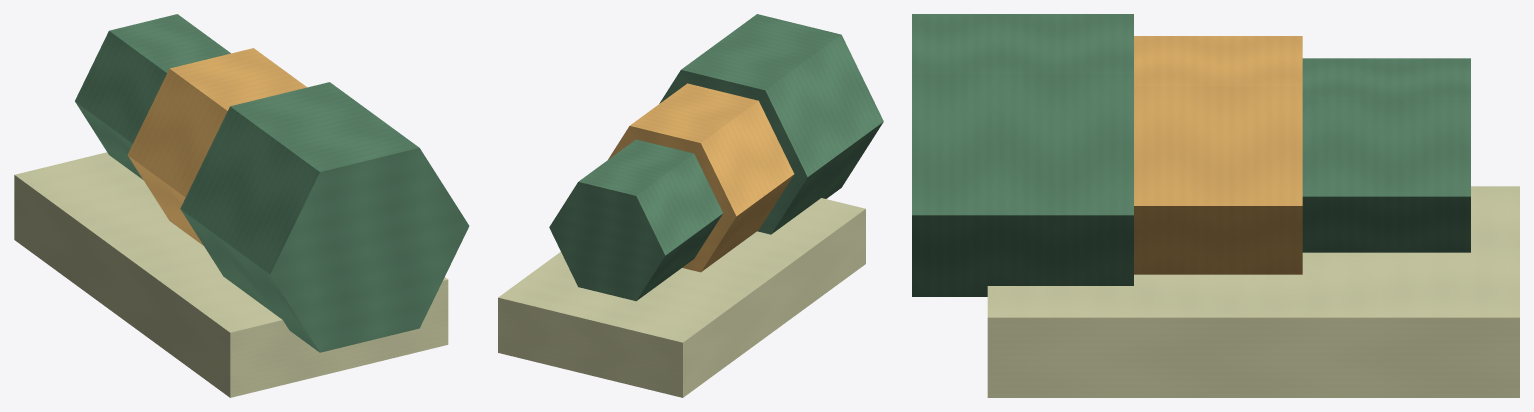
The model's file is atlas100-s003-a05.lod1.glb.
The picture shows the model from 3 angles, left to right: view 1: azimuth 30°, elevation 25°; view 2: azimuth 150°, elevation 25°; view 3: azimuth 270°, elevation 25°; orthographic projection. The views are drawn at different scales.
Parts seen in each view (by area): view 1: atlas100-s003-a05:part-002, atlas100-s003-a05:part-004, atlas100-s003-a05:part-001, atlas100-s003-a05:part-000; view 2: atlas100-s003-a05:part-004, atlas100-s003-a05:part-002, atlas100-s003-a05:part-000, atlas100-s003-a05:part-001; view 3: atlas100-s003-a05:part-004, atlas100-s003-a05:part-002, atlas100-s003-a05:part-001, atlas100-s003-a05:part-000.
Boxes of the visible parts, x1,y1,x2,y2 form: atlas100-s003-a05:part-002: (180, 82, 469, 352); atlas100-s003-a05:part-004: (14, 152, 448, 397); atlas100-s003-a05:part-001: (127, 48, 306, 245); atlas100-s003-a05:part-000: (75, 14, 230, 179); atlas100-s003-a05:part-004: (498, 198, 865, 397); atlas100-s003-a05:part-002: (659, 14, 883, 234); atlas100-s003-a05:part-000: (549, 139, 723, 301); atlas100-s003-a05:part-001: (608, 83, 794, 272); atlas100-s003-a05:part-004: (987, 186, 1519, 397); atlas100-s003-a05:part-002: (912, 14, 1133, 296); atlas100-s003-a05:part-001: (1134, 36, 1302, 274); atlas100-s003-a05:part-000: (1302, 58, 1470, 252).
Bounding box in the file's own units: 0.3822 × 0.3916 × 0.748.
3 materials, 3 textured.
